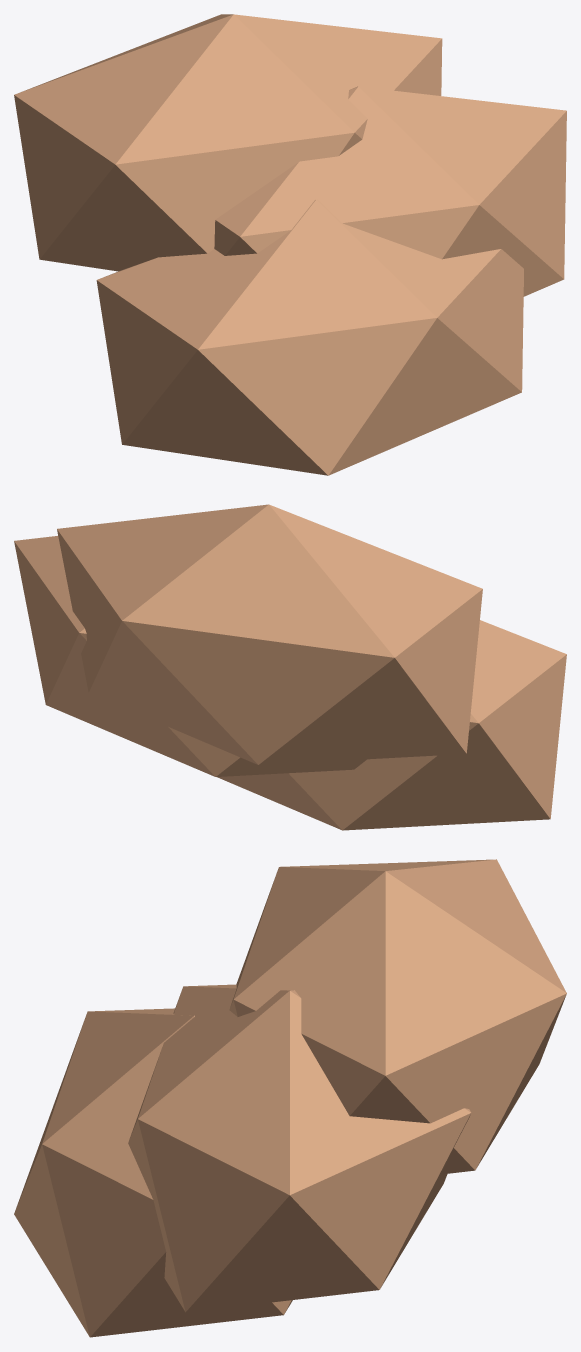
Rendered from item_096_seal_m.glb.
3 views of the same model, one above another, from view 1: azimuth 30°, elevation 25°; view 2: azimuth 150°, elevation 25°; view 3: azimuth 270°, elevation 25° (orthographic). The views are drawn at different scales.
Visible parts, largest first — view 1: item_096_seal_m; view 2: item_096_seal_m; view 3: item_096_seal_m.
Boxes of the visible parts, left/top/right/bottom form: item_096_seal_m: left=14, top=14, right=566, bottom=475; item_096_seal_m: left=14, top=504, right=566, bottom=830; item_096_seal_m: left=14, top=859, right=566, bottom=1337.
Bounding box in the file's own units: 0.4081 × 0.3011 × 0.3467.
